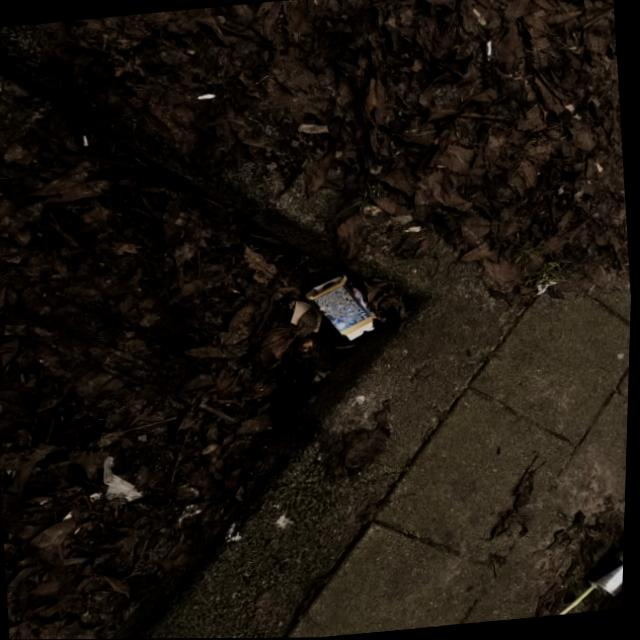Can-Metal: (591, 537, 627, 596)
